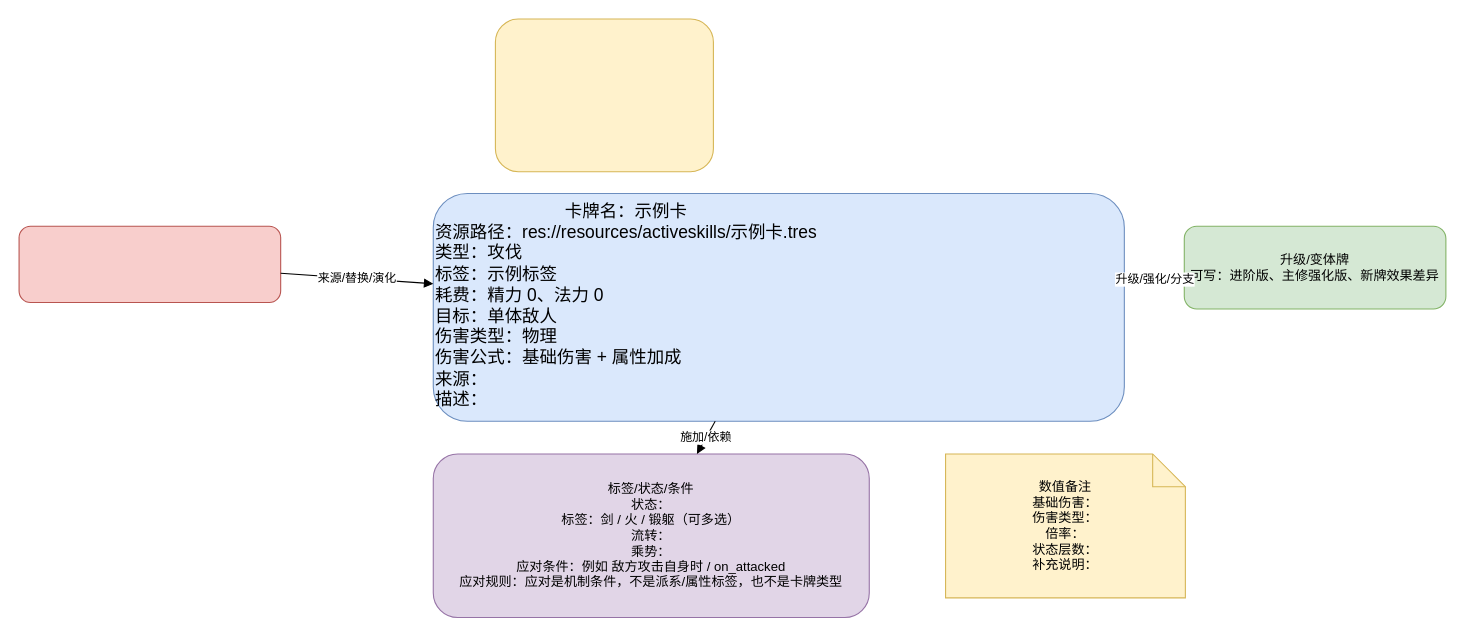
Some shapes in this 1465 by 637 pixel diagram are drawn without their labels. Each missing label, with the box of its shape:
前置/来源牌 可写：基础牌、被替换牌、同系旧牌: (18, 225, 281, 302)
卡牌词条模板 中间主框=卡牌信息 左=来源/前置 右=升级/变体 下=状态/条件: (494, 18, 713, 172)
